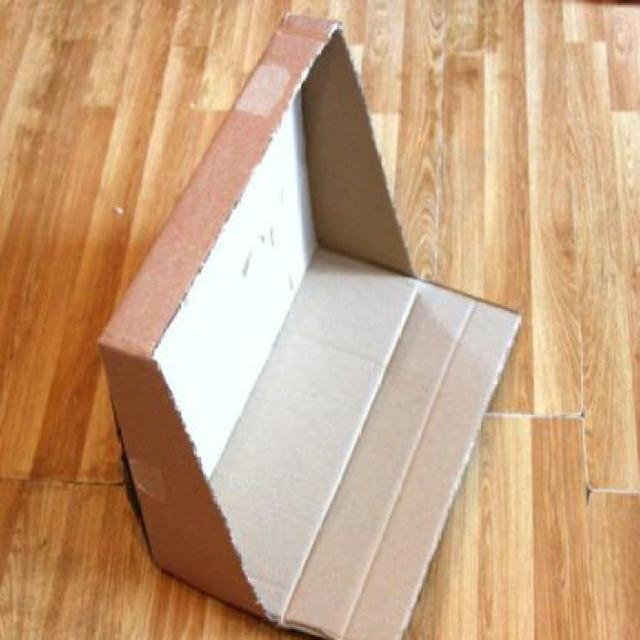box: (86, 0, 543, 640)
